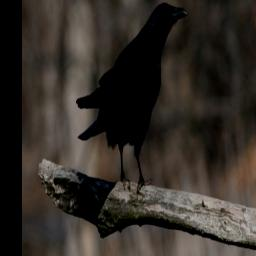Crow: (76, 0, 188, 197)
